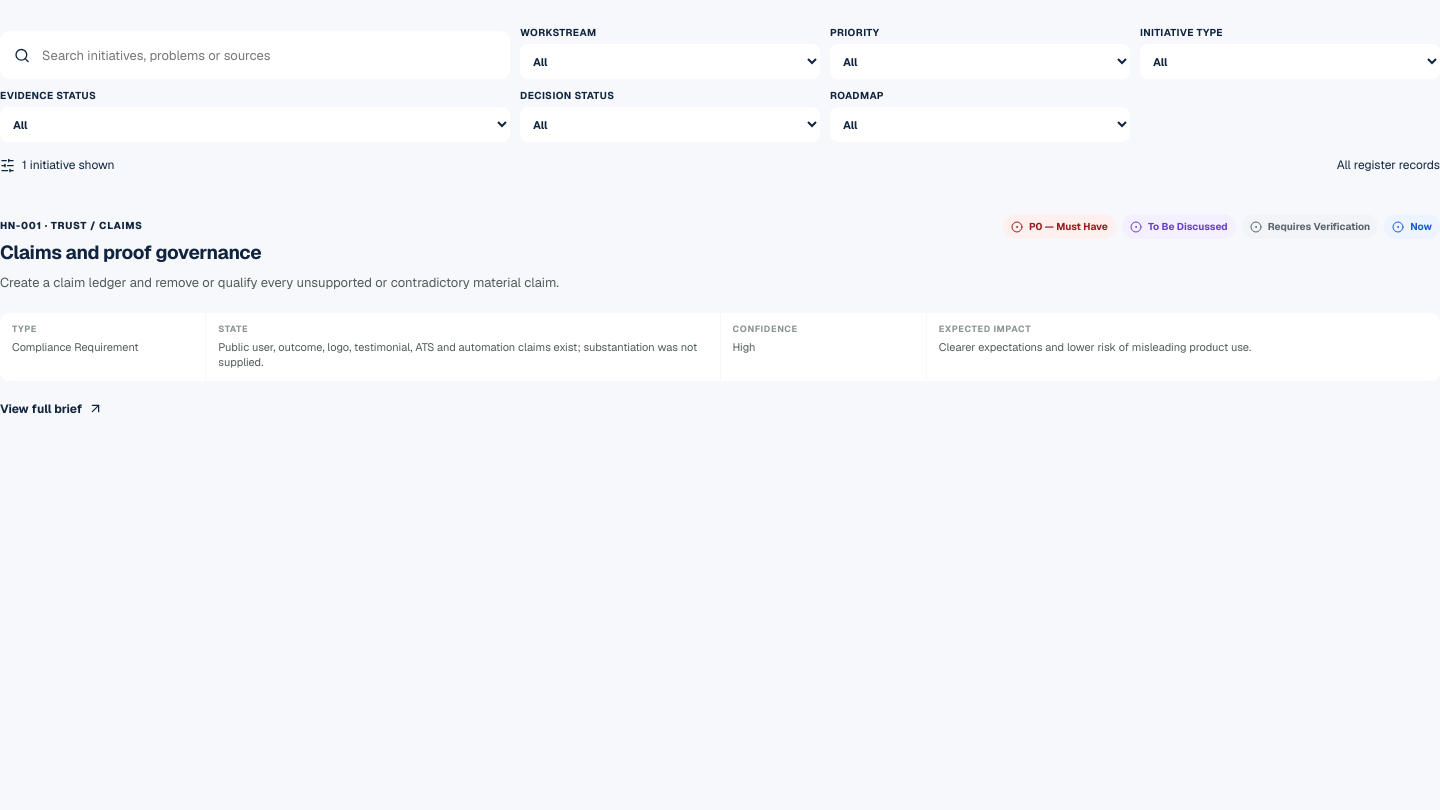
Scenario: initiative explorer › opens complete details and closes with Escape
Click the button with aria-label "View details for".
click(52, 408)  # box [0, 400, 103, 416]
(page scrolled)
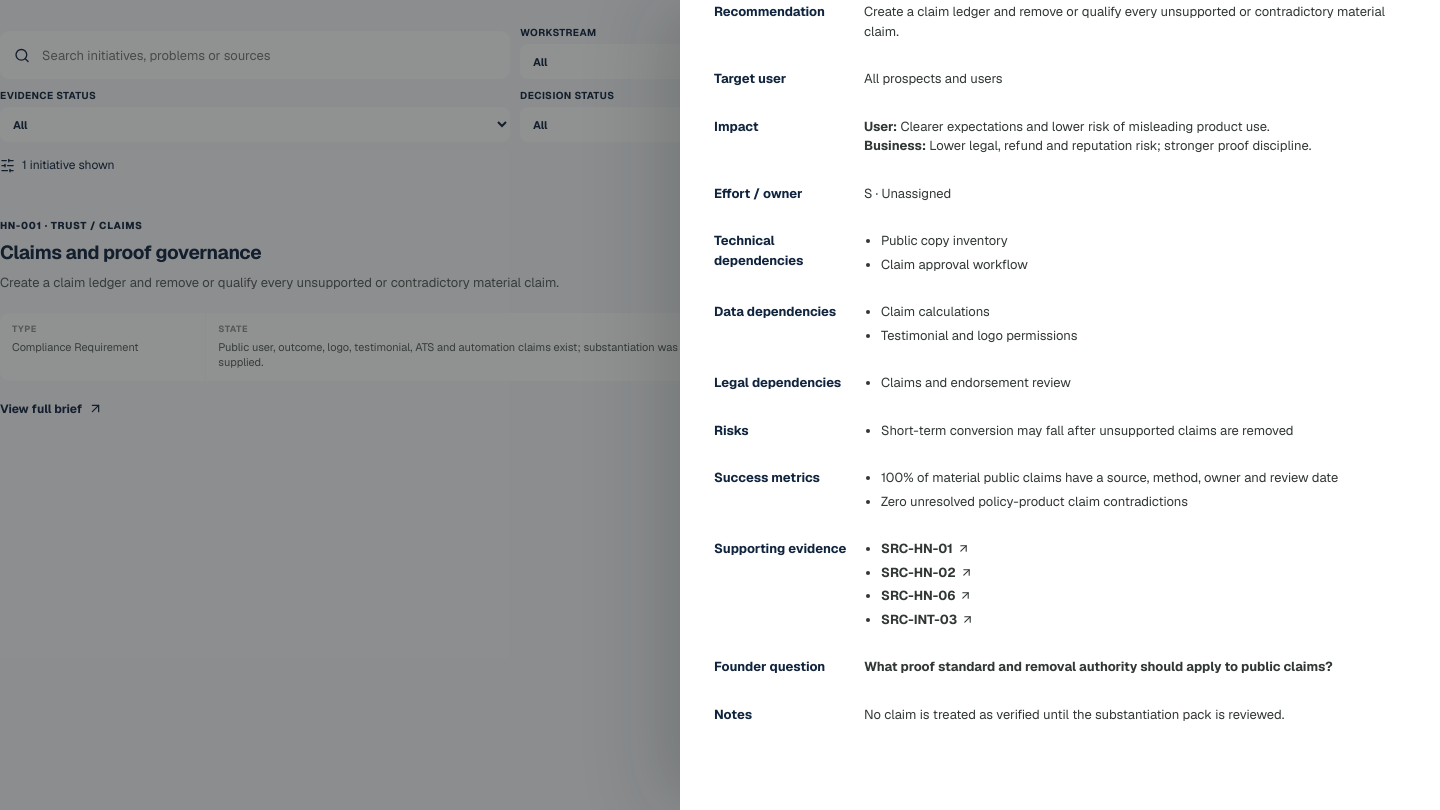
expect the dialog "Claims and proof governance" is shown: met, box [680, 0, 1439, 809]
expect the text "Success metrics" is shown: met, box [714, 469, 820, 486]
expect the text "Founder question" is shown: met, box [714, 658, 825, 675]
Press Escape
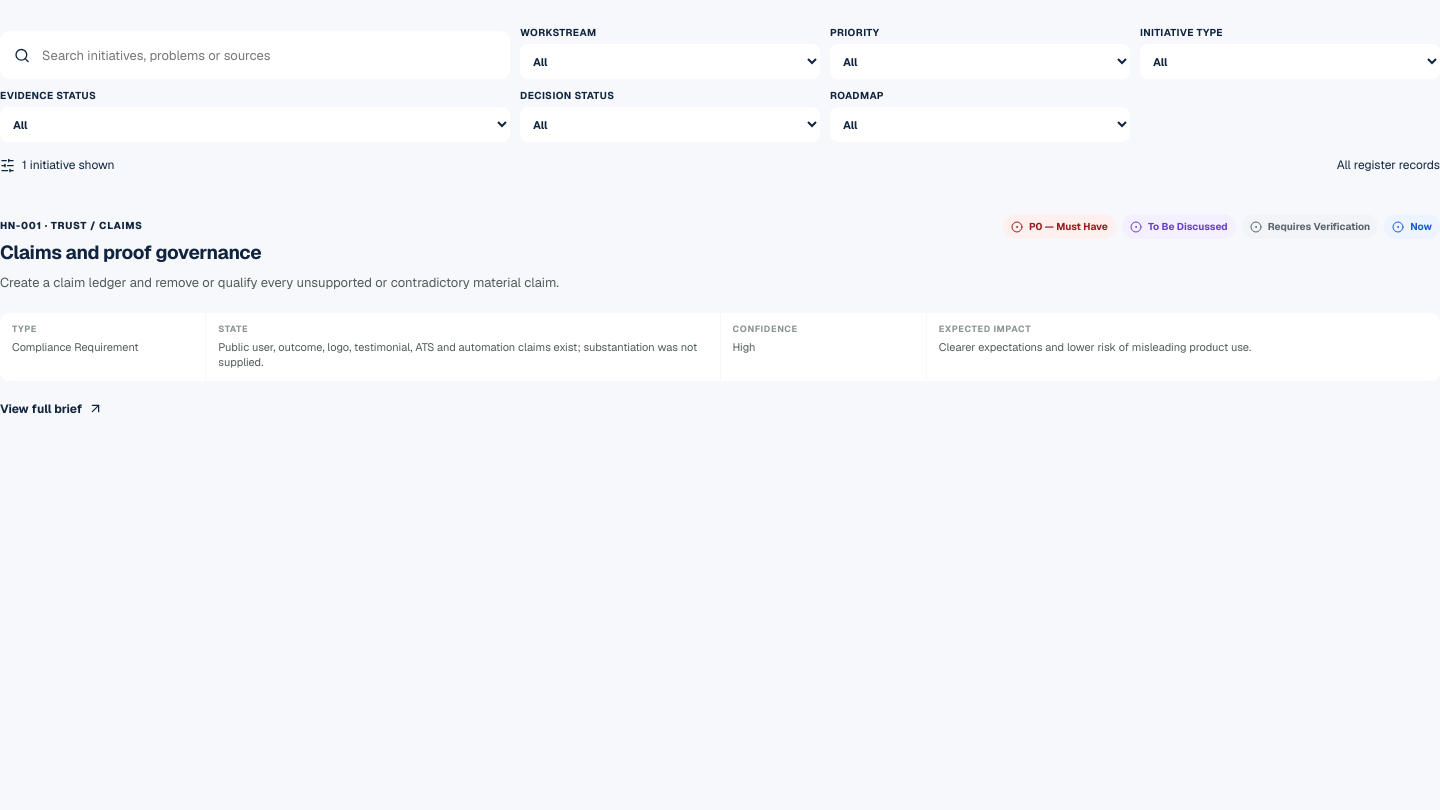
expect the dialog is gone: met
